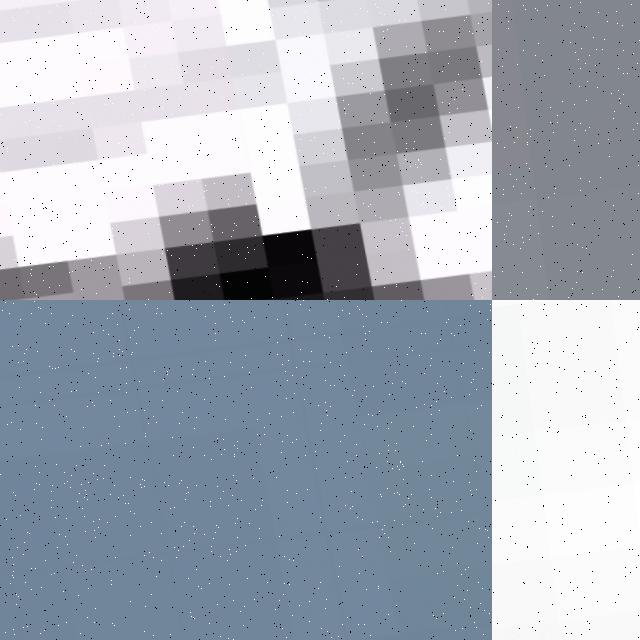drone: (0, 300, 492, 640), (0, 0, 492, 300)
